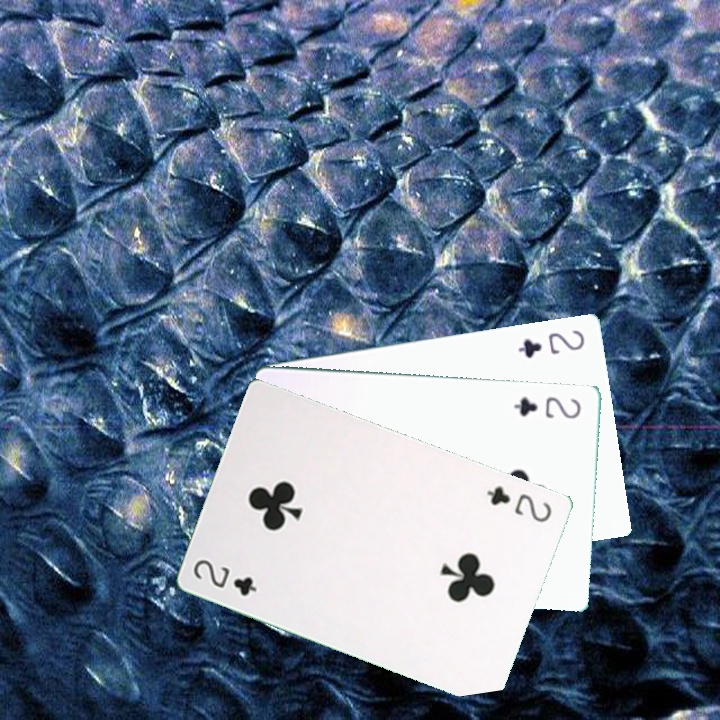2c: (482, 482, 555, 525), (189, 555, 260, 599), (514, 325, 587, 361), (510, 392, 583, 421)
